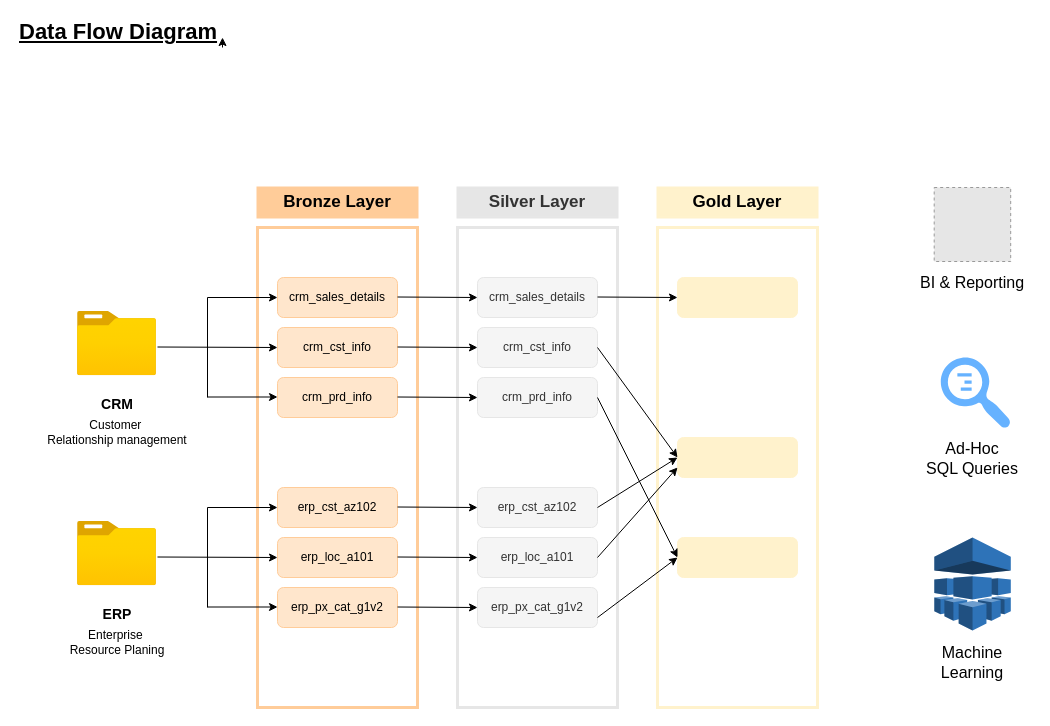
Some shapes in this 1050 by 726 pixel diagram are drawn without their labels. Grey dashed boxes stand in for pictures. The shapes that lost their labels are listed below. From the top down, each one's centre as x and y in pixels, then its label:
[737,297]: fact_sales
[737,457]: dim_customers
[737,557]: dim_products
